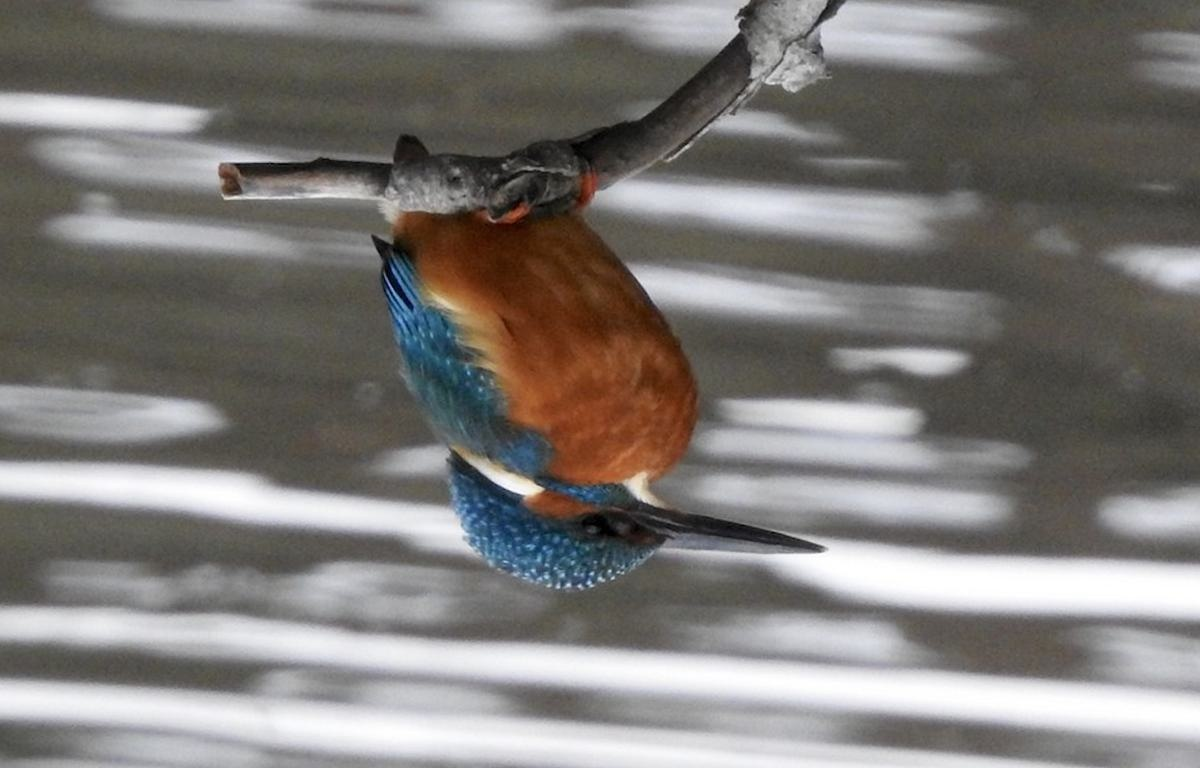kingfisher: (369, 119, 850, 620)
